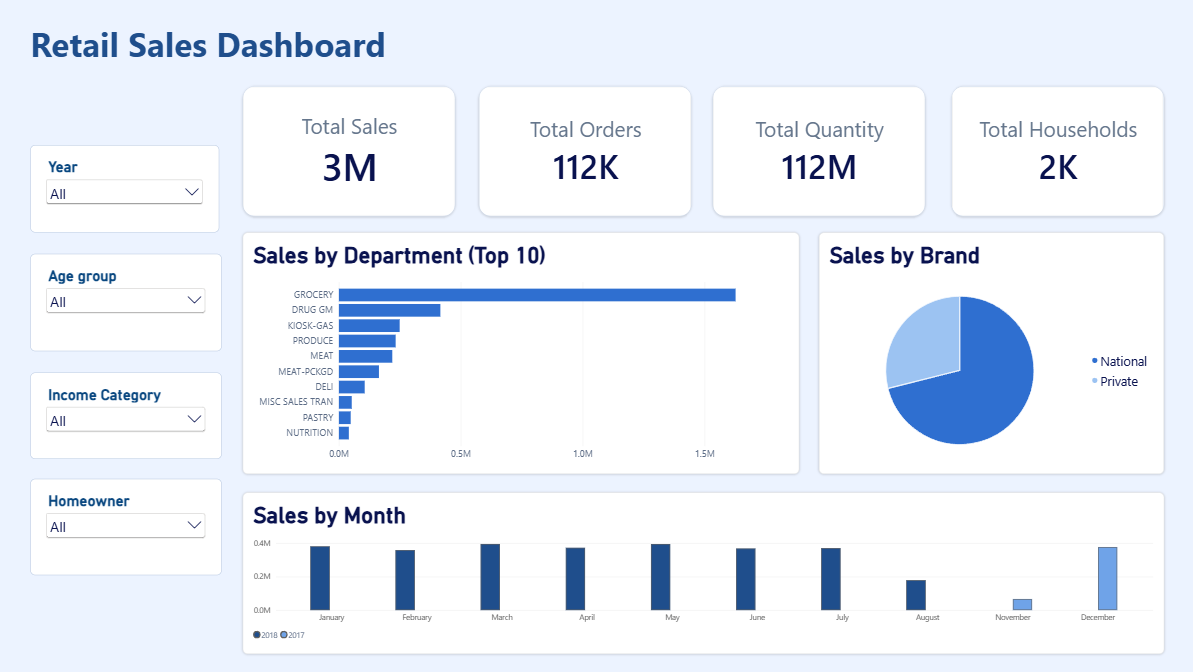

What the dashboard file says about the page in this screenshot:
{"tool":"powerbi","page":{"name":"Supply Chain Dashboard","canvas":[1920,1080],"ordinal":0},"visuals":[{"type":"textbox","box":[50,34,1110,72],"z":0},{"type":"cardVisual","fields":{"Data":["Fact_Sales.Total Sales"]},"box":[390,138,340,208],"z":1000},{"type":"cardVisual","fields":{"Data":["Fact_Sales.Total Orders"]},"box":[768,138,340,208],"z":2000},{"type":"cardVisual","fields":{"Data":["Fact_Sales.Total Quantity"]},"box":[1142,138,340,208],"z":3000},{"type":"cardVisual","fields":{"Data":["Fact_Sales.Total Households"]},"box":[1524,138,340,208],"z":4000},{"type":"slicer","fields":{"Values":["Dim_Date.Year"]},"box":[50.9,232.4,302,140],"z":5000},{"type":"slicer","fields":{"Values":["Dim_Household.INCOME_CATEGORY_DESC"]},"box":[50.9,595.1,306,138],"z":6000},{"type":"slicer","fields":{"Values":["Dim_Household.AGE_DESC"]},"box":[50.9,405.7,306,156],"z":7000},{"type":"slicer","fields":{"Values":["Dim_Household.HOMEOWNER_DESC"]},"box":[50.9,766.4,306,154],"z":8000},{"type":"clusteredBarChart","title":"Sales by Department (Top 10)","fields":{"Category":["Dim_Product.DEPARTMENT"],"Y":["Fact_Sales.Total Sales"]},"box":[390,372,890,386],"z":9000},{"type":"pieChart","title":"Sales by Brand","fields":{"Category":["Dim_Product.BRAND"],"Y":["Fact_Sales.Total Sales"]},"box":[1312,372,552,386],"z":10000},{"type":"clusteredColumnChart","title":"Sales by Month","fields":{"Category":["Dim_Date.Month Name"],"Series":["Dim_Date.Year"],"Y":["Fact_Sales.Total Sales"]},"box":[390,788,1474,258],"z":11000}]}

Visuals, with their boxes in screenshot pixels (x1, y1, x2, y2), scaled from the page's 1920x1080 canvas onto the 1193x672 screenshot:
textbox: 31 21 721 66
cardVisual - Fact_Sales.Total Sales: 242 86 454 215
cardVisual - Fact_Sales.Total Orders: 477 86 688 215
cardVisual - Fact_Sales.Total Quantity: 710 86 921 215
cardVisual - Fact_Sales.Total Households: 947 86 1158 215
slicer - Dim_Date.Year: 32 145 219 232
slicer - Dim_Household.INCOME_CATEGORY_DESC: 32 370 222 456
slicer - Dim_Household.AGE_DESC: 32 252 222 350
slicer - Dim_Household.HOMEOWNER_DESC: 32 477 222 573
"Sales by Department (Top 10)" clusteredBarChart: 242 231 795 472
"Sales by Brand" pieChart: 815 231 1158 472
"Sales by Month" clusteredColumnChart: 242 490 1158 651
